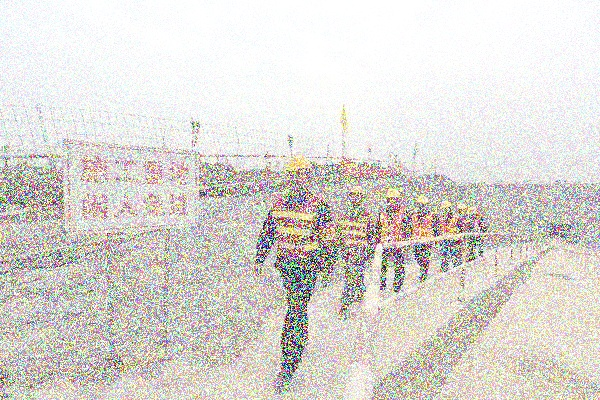helmet: (284, 156, 312, 193), (347, 185, 365, 208), (385, 187, 400, 208), (415, 195, 429, 212), (440, 201, 452, 216), (468, 206, 479, 219), (458, 203, 467, 215)
vest: (258, 191, 335, 262), (335, 209, 375, 250), (376, 206, 412, 247), (411, 209, 439, 244), (437, 212, 463, 240), (470, 216, 486, 235)
